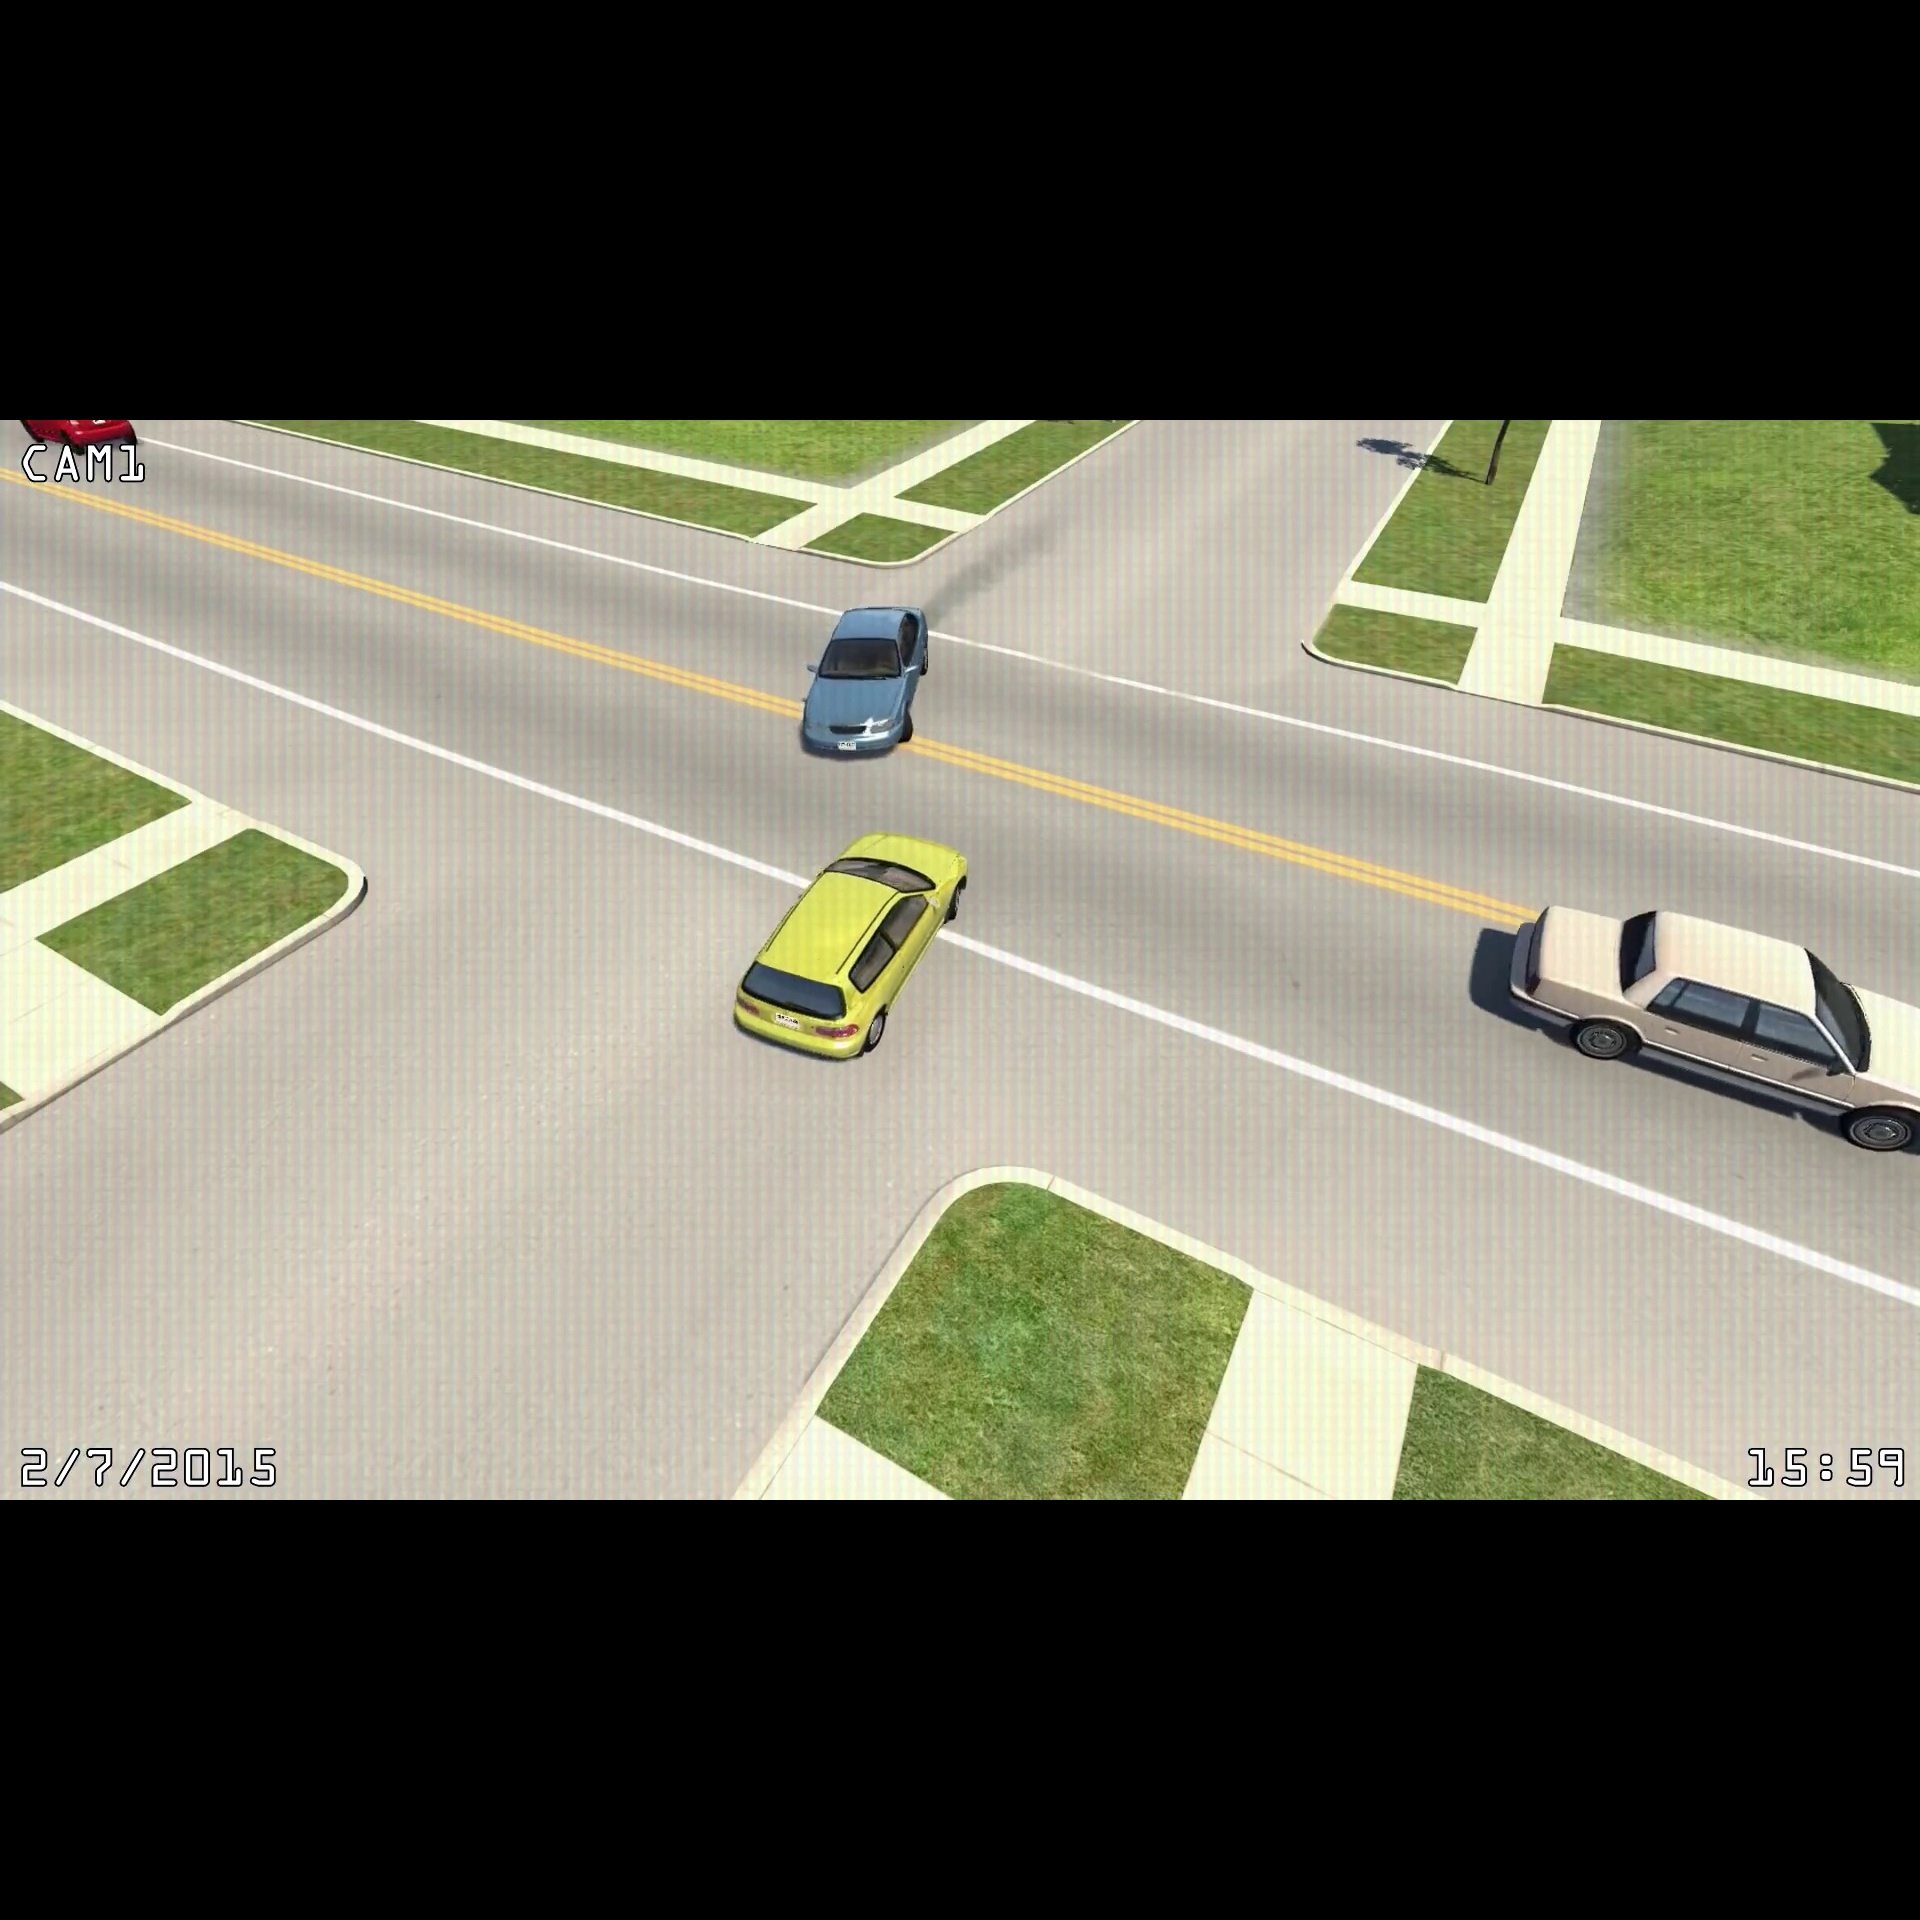vehicle: (1489, 893, 1920, 1160), (721, 812, 986, 1071), (789, 596, 937, 768), (2, 422, 149, 461)
